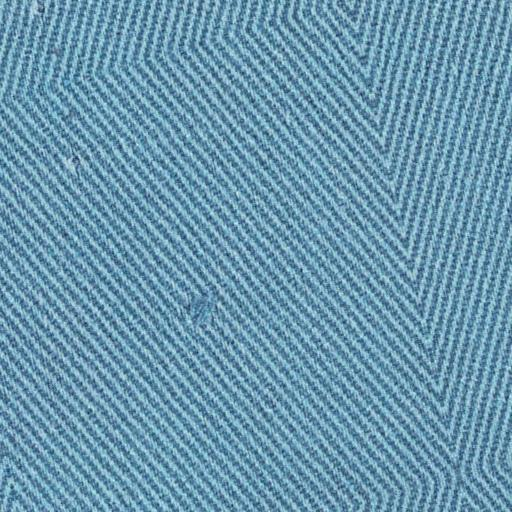knot: (175, 286, 229, 336)
